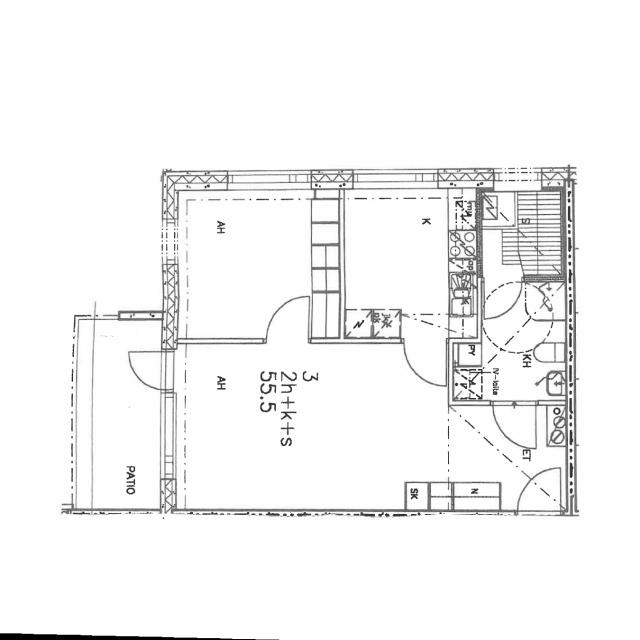door: (517, 464, 560, 515), (123, 351, 179, 390), (404, 338, 446, 386), (266, 295, 308, 343), (493, 400, 535, 448), (484, 277, 522, 320)
